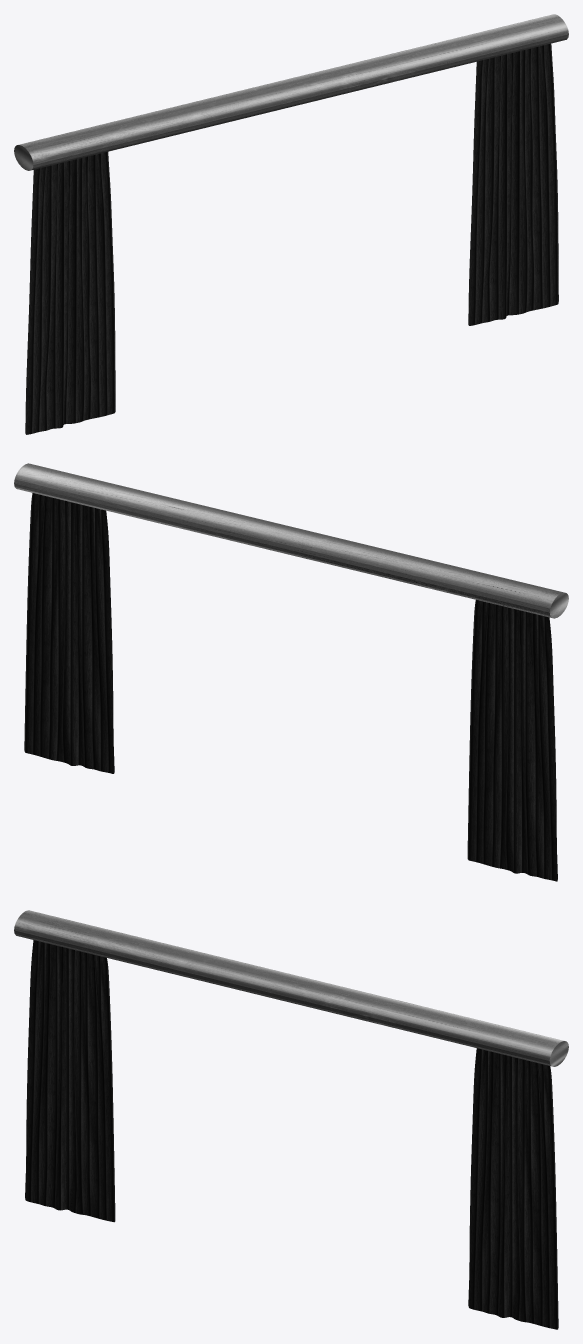
File: Cortina.fbx
3 renders of one model, top to bottom at view 1: azimuth 30°, elevation 25°; view 2: azimuth 150°, elevation 25°; view 3: azimuth 330°, elevation 25°, orthographic.
Parts seen in each view (by area): view 1: cortina 1, cortina 2, Barra; view 2: cortina 1, cortina 2, Barra; view 3: cortina 1, cortina 2, Barra.
Part boxes in pixels (bbox=[...]): cortina 1: bbox=[25, 152, 115, 434]; cortina 2: bbox=[468, 43, 558, 325]; Barra: bbox=[14, 14, 568, 170]; cortina 1: bbox=[467, 600, 557, 881]; cortina 2: bbox=[24, 493, 114, 773]; Barra: bbox=[14, 463, 568, 618]; cortina 1: bbox=[25, 940, 115, 1222]; cortina 2: bbox=[468, 1048, 558, 1329]; Barra: bbox=[14, 910, 568, 1066].
Bounding box in the file's own units: 9.56 × 4.92 × 0.6245.
Materials: 3 (3 with a texture image).
